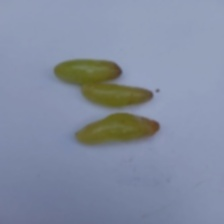grapes: (55, 23, 208, 181)
